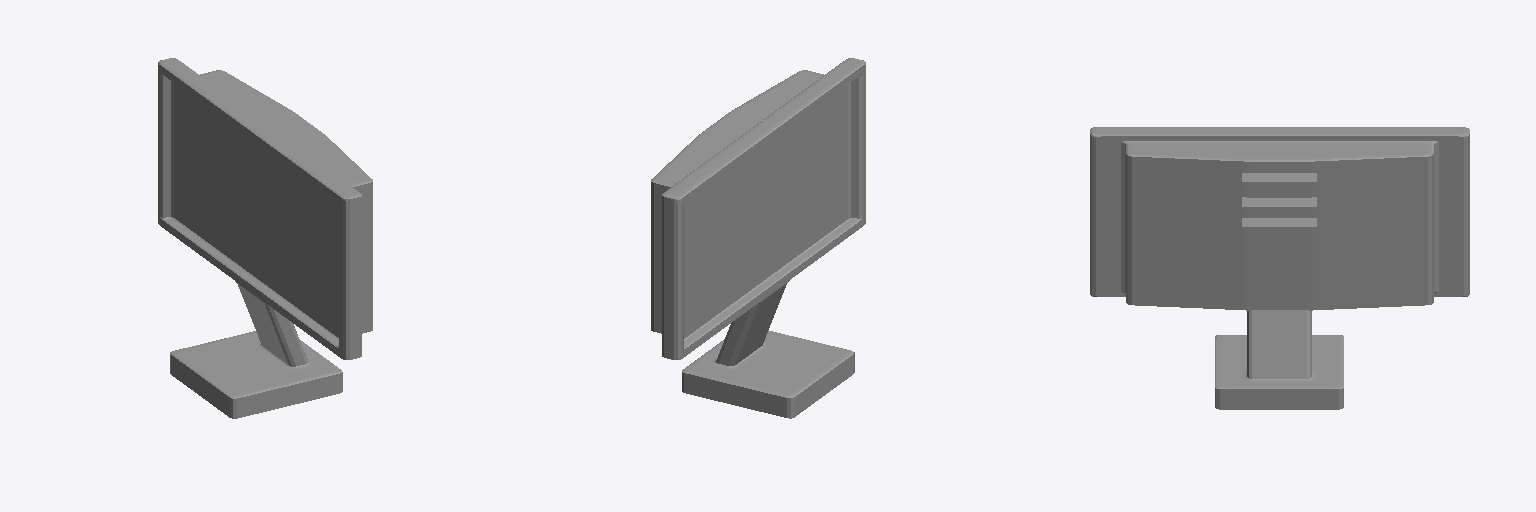
File: computer.obj
3 renders of one model, left to right at view 1: azimuth 30°, elevation 25°; view 2: azimuth 150°, elevation 25°; view 3: azimuth 270°, elevation 25°, orthographic.
Visible parts, largest first — view 1: Computer; view 2: Computer; view 3: Computer.
Part boxes in pixels (x1,y1,x2,y2): Computer: (158, 58, 372, 418); Computer: (651, 58, 865, 418); Computer: (1090, 127, 1469, 409).
Bounding box in the file's own units: 2 × 4.34 × 5.86.